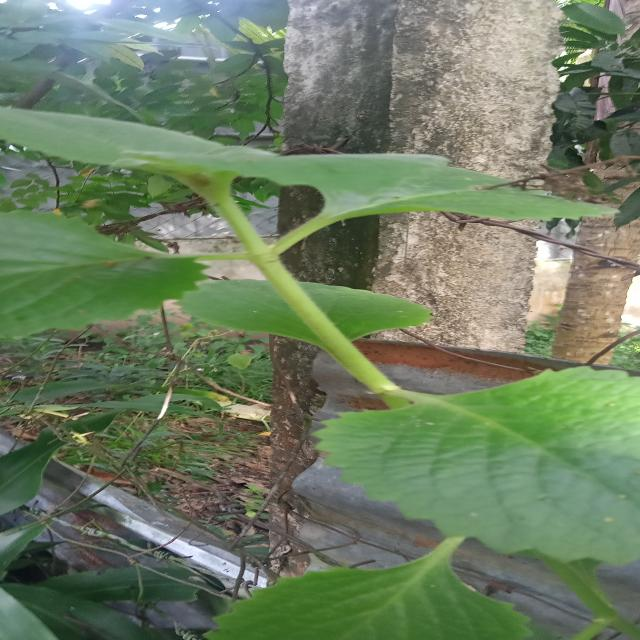Oregano: (302, 362, 640, 589)
